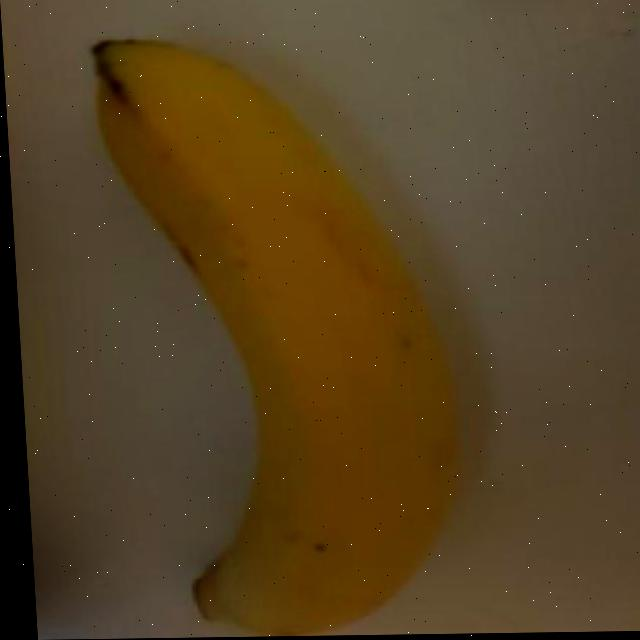banana: (72, 17, 498, 639)
